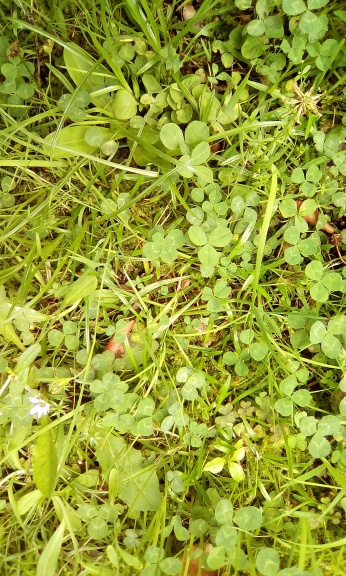4leaf: (142, 228, 185, 263), (89, 373, 125, 411), (183, 422, 208, 448)
